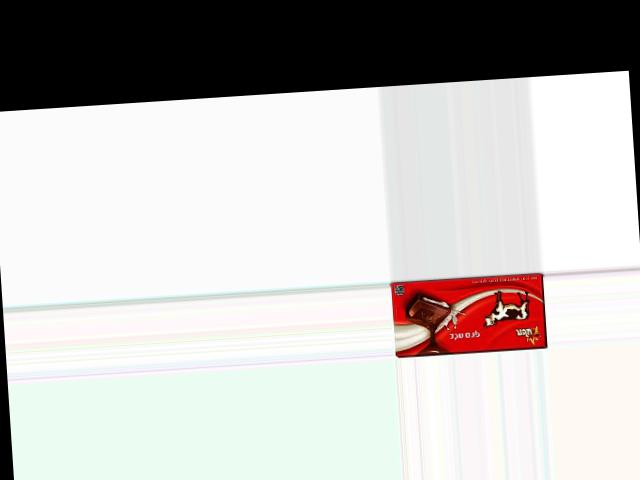chocolate: (391, 271, 550, 357)
